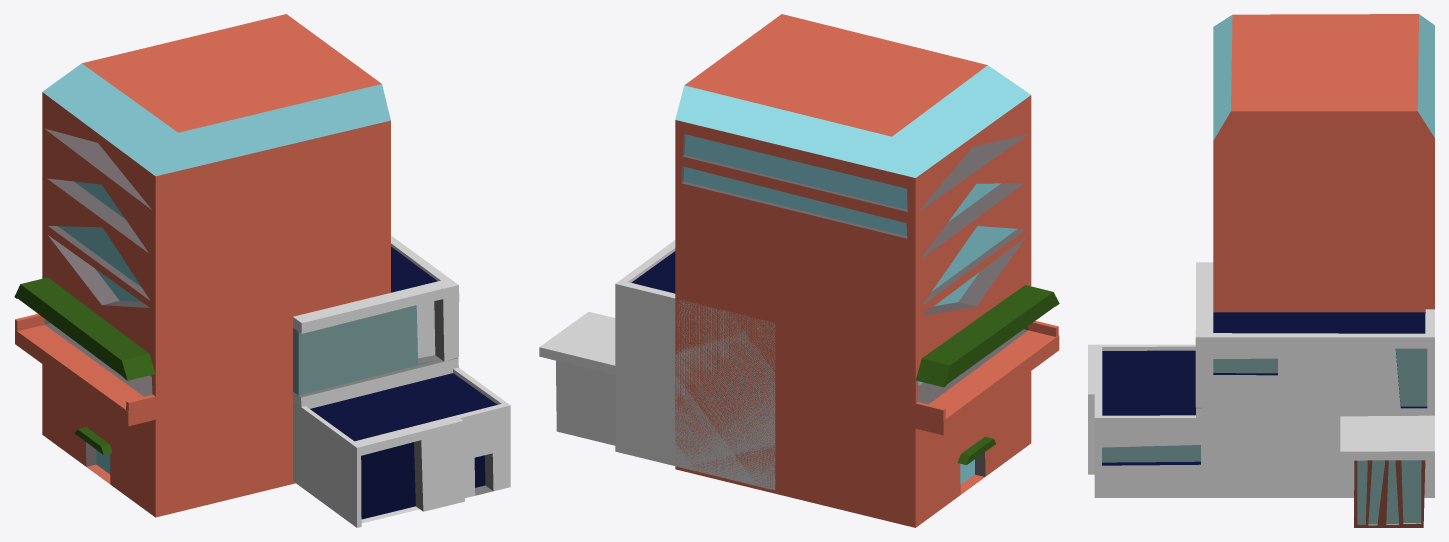
File: casa2.glb
3 renders of one model, left to right at view 1: azimuth 30°, elevation 25°; view 2: azimuth 150°, elevation 25°; view 3: azimuth 270°, elevation 25°, orthographic. The views are drawn at different scales.
Parts seen in each view (by area): view 1: Cubo, Cubo.001; view 2: Cubo, Cubo.001; view 3: Cubo, Cubo.001.
Boxes of the visible parts, x1,y1,x2,y2 form: Cubo: [14, 14, 390, 517]; Cubo.001: [292, 235, 510, 527]; Cubo: [675, 14, 1059, 527]; Cubo.001: [539, 240, 775, 490]; Cubo: [1213, 14, 1434, 312]; Cubo.001: [1088, 262, 1434, 527].
Bounding box in the file's own units: 20.21 × 18 × 15.66.
